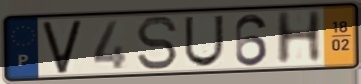4: (90, 19, 129, 71)
6: (233, 11, 270, 68)
H: (273, 9, 324, 67)
S: (134, 14, 180, 72)
U: (182, 14, 226, 69)
V: (40, 18, 84, 76)
